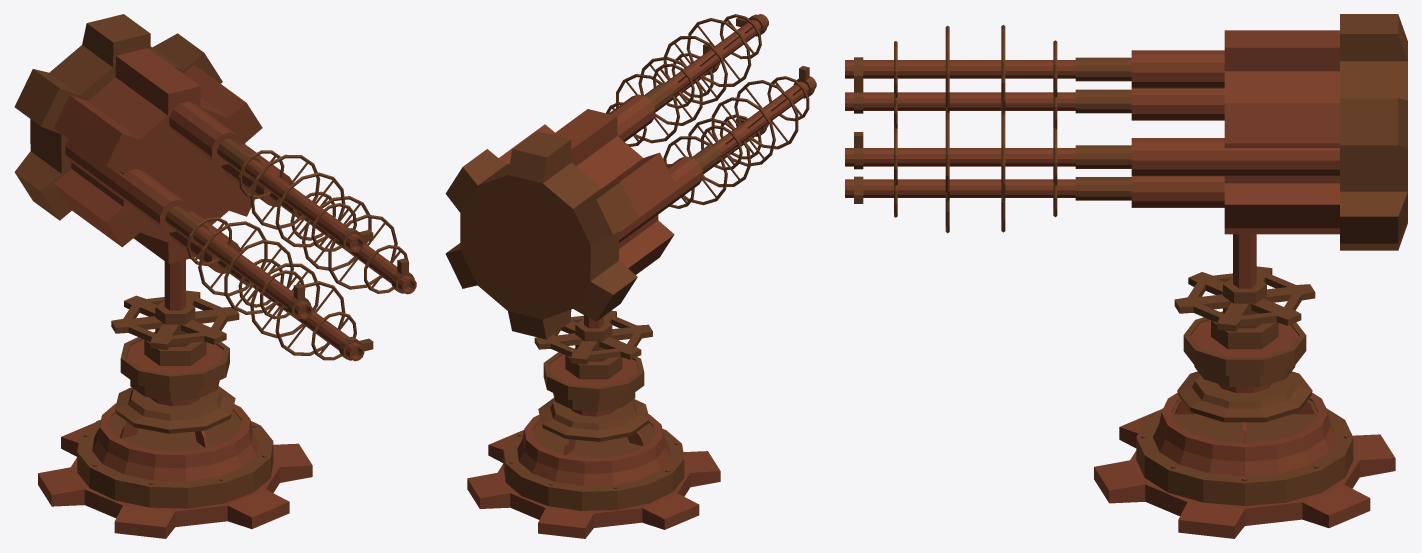
File: Laser_MachineGun.glb
3 renders of one model, left to right at view 1: azimuth 30°, elevation 25°; view 2: azimuth 150°, elevation 25°; view 3: azimuth 270°, elevation 25°, orthographic. The views are drawn at different scales.
Parts seen in each view (by area): view 1: Laser_MachineGun_Gun, Laser_MachineGun_Base, Laser_MachineGun_Mid; view 2: Laser_MachineGun_Gun, Laser_MachineGun_Base, Laser_MachineGun_Mid; view 3: Laser_MachineGun_Gun, Laser_MachineGun_Base, Laser_MachineGun_Mid.
Boxes of the visible parts, left/top/right/bottom form: Laser_MachineGun_Gun: left=14, top=14, right=416, bottom=361; Laser_MachineGun_Base: left=38, top=332, right=312, bottom=538; Laser_MachineGun_Mid: left=111, top=260, right=239, bottom=365; Laser_MachineGun_Gun: left=445, top=14, right=816, bottom=339; Laser_MachineGun_Base: left=467, top=352, right=720, bottom=538; Laser_MachineGun_Mid: left=534, top=310, right=652, bottom=379; Laser_MachineGun_Gun: left=845, top=14, right=1407, bottom=250; Laser_MachineGun_Base: left=1094, top=311, right=1395, bottom=538; Laser_MachineGun_Mid: left=1174, top=234, right=1315, bottom=349.
Bounding box in the file's own units: 1.38 × 2.29 × 2.57.
